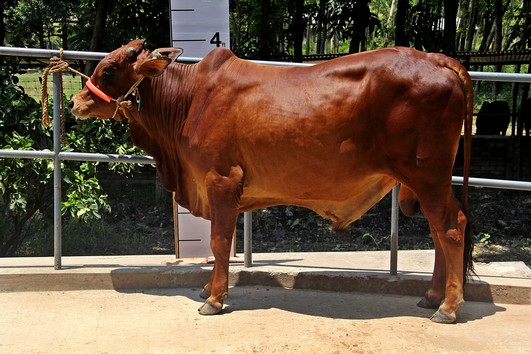cow: (67, 15, 477, 331)
